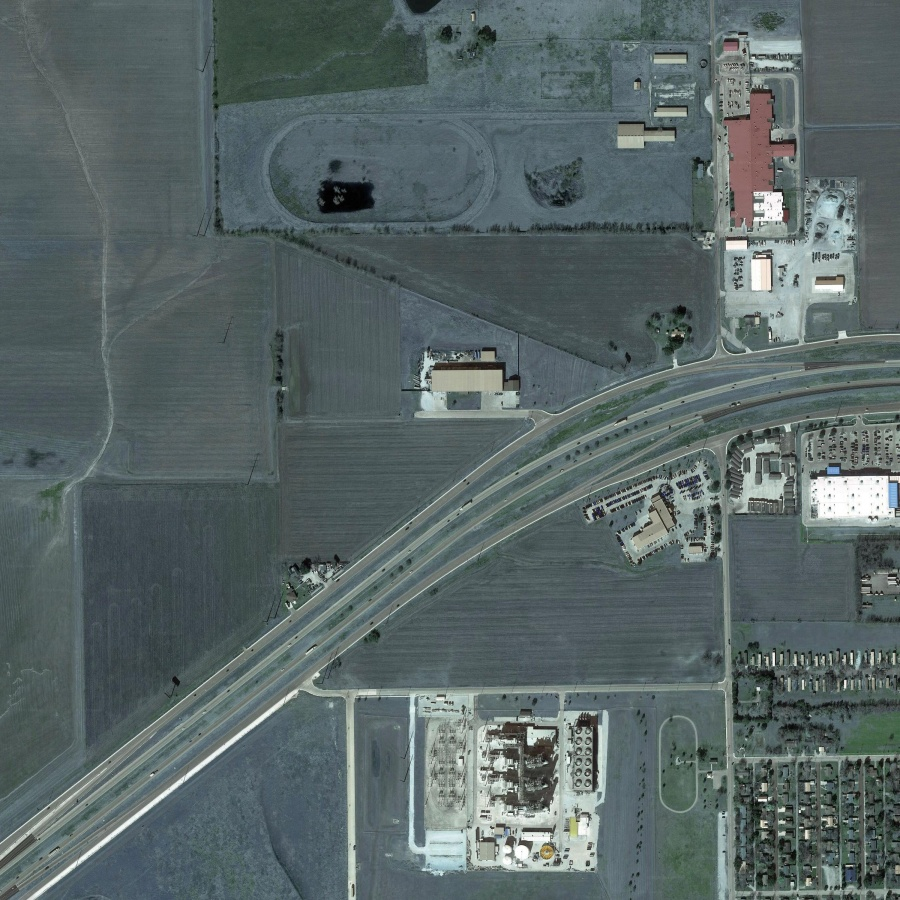PowerPlant: (411, 689, 605, 878)
